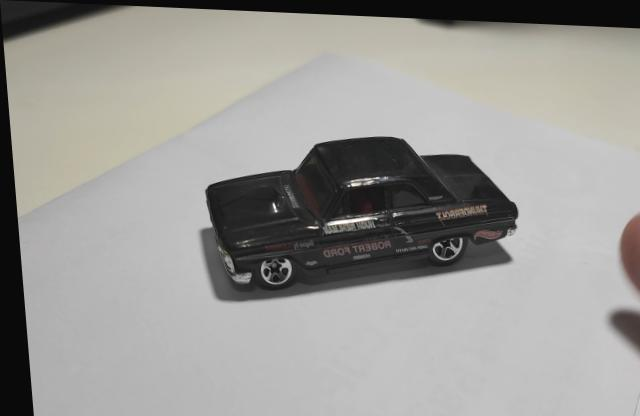01_FORD: (195, 133, 515, 300)
